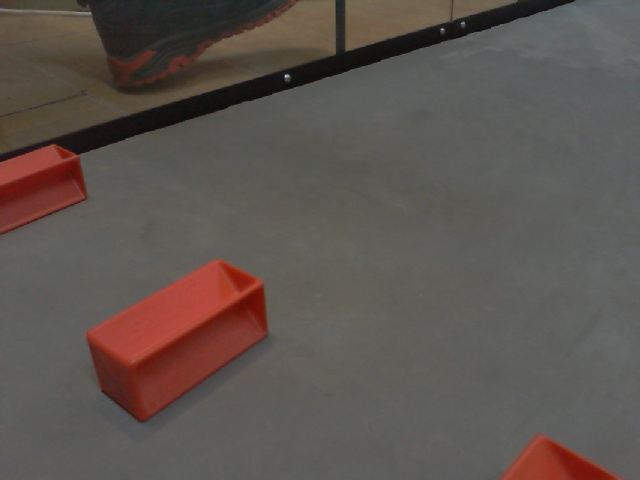RedSample: (88, 256, 270, 425), (1, 141, 86, 241), (494, 434, 626, 480)
